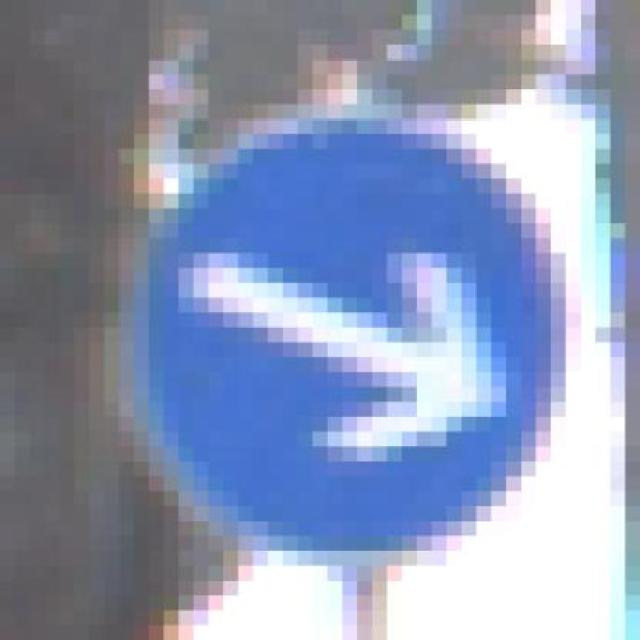Keep-Right: (134, 119, 580, 581)
